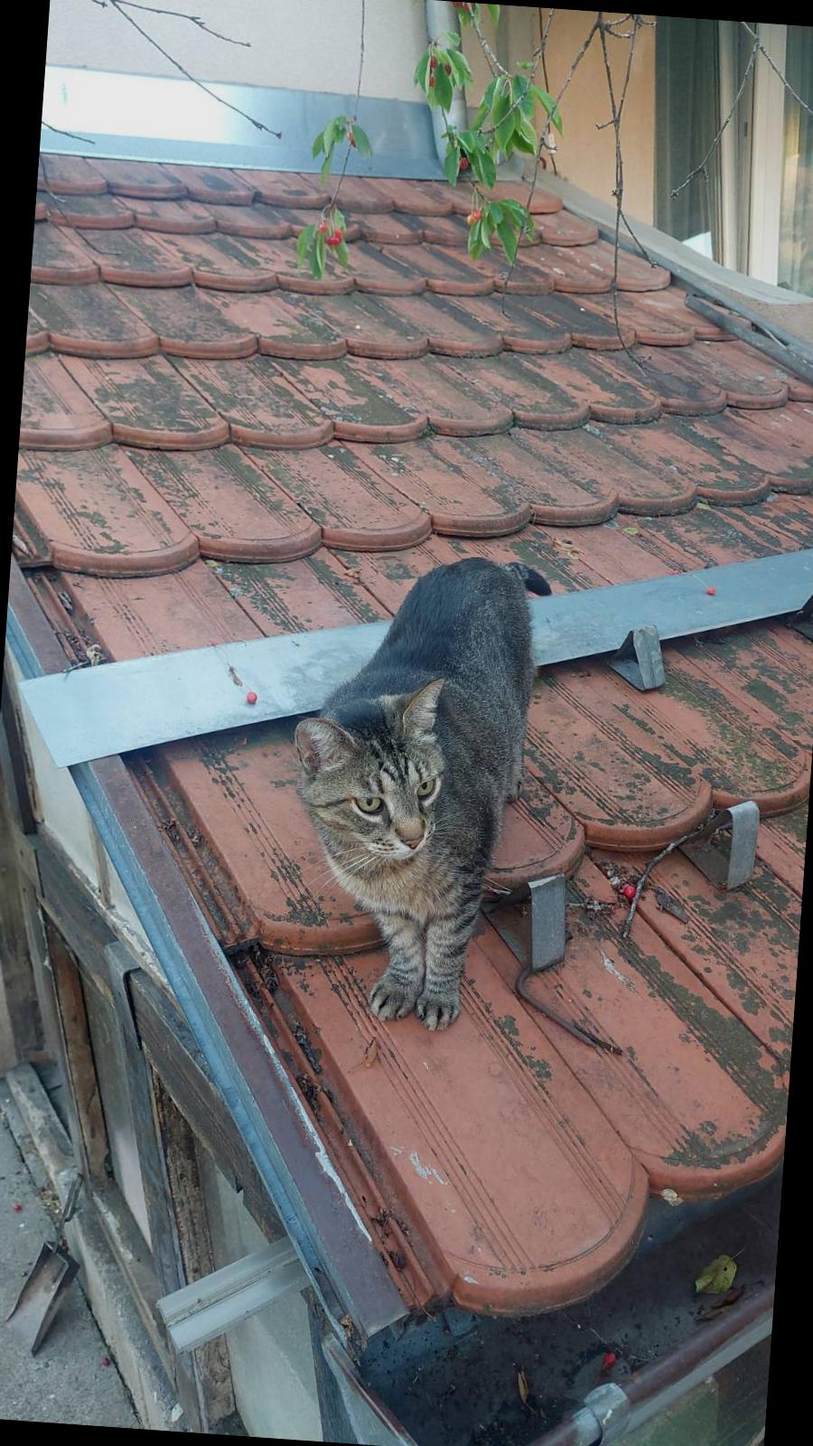macka: (280, 549, 552, 1038)
